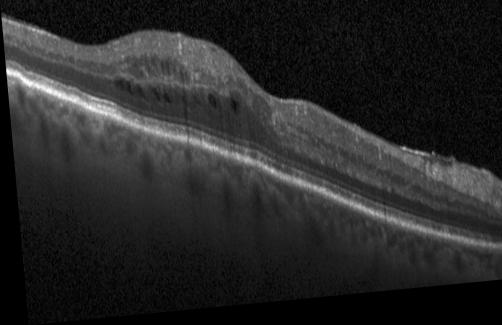intraretinal_cyst: (205, 97, 214, 113), (149, 90, 158, 105), (228, 104, 235, 118), (135, 89, 143, 101), (125, 84, 132, 97), (149, 60, 156, 73), (161, 96, 169, 106), (143, 63, 149, 76), (190, 100, 198, 109), (115, 82, 122, 92), (177, 74, 182, 85), (165, 66, 169, 79), (183, 75, 187, 87), (171, 69, 175, 80), (159, 65, 162, 77), (138, 73, 142, 81), (180, 100, 185, 106), (131, 65, 136, 70)
